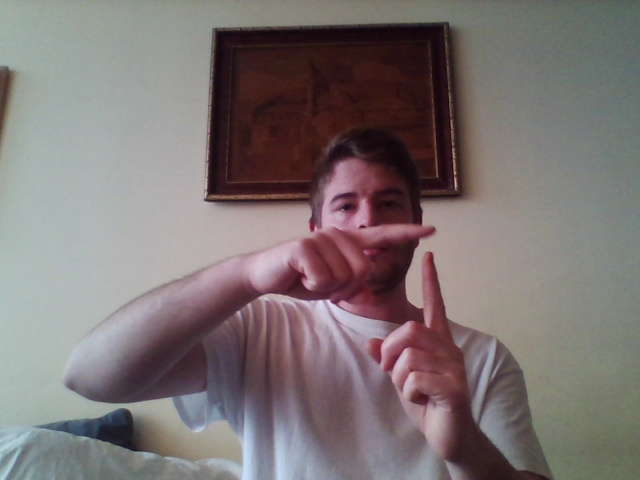kad: (249, 224, 475, 462)
